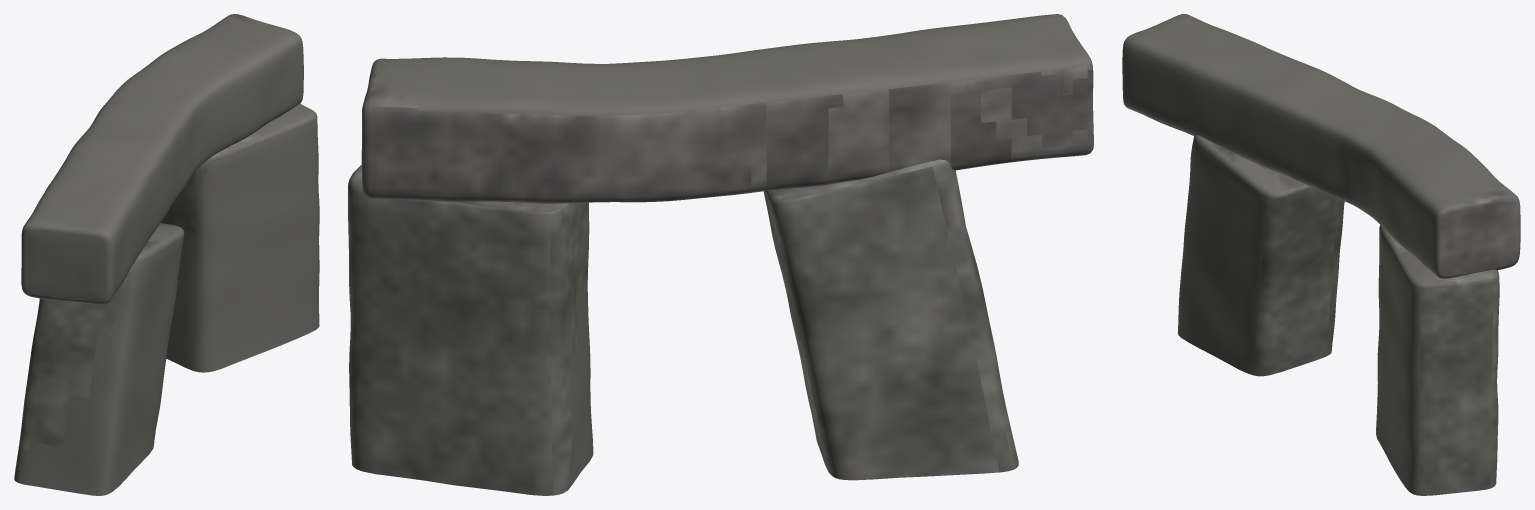
Rendered from AraHenge01.glb.
3 renders of one model, left to right at view 1: azimuth 30°, elevation 25°; view 2: azimuth 150°, elevation 25°; view 3: azimuth 270°, elevation 25°, orthographic. The views are drawn at different scales.
Visible parts, largest first — view 1: AraHenge01; view 2: AraHenge01; view 3: AraHenge01.
Part boxes in pixels (box(x1,y1,x2,y2)): AraHenge01: box(14, 14, 319, 495); AraHenge01: box(348, 14, 1093, 495); AraHenge01: box(1122, 14, 1520, 495).
Bounding box in the file's own units: 4.06 × 2.71 × 3.41.
Materials: 2 (1 with a texture image).
